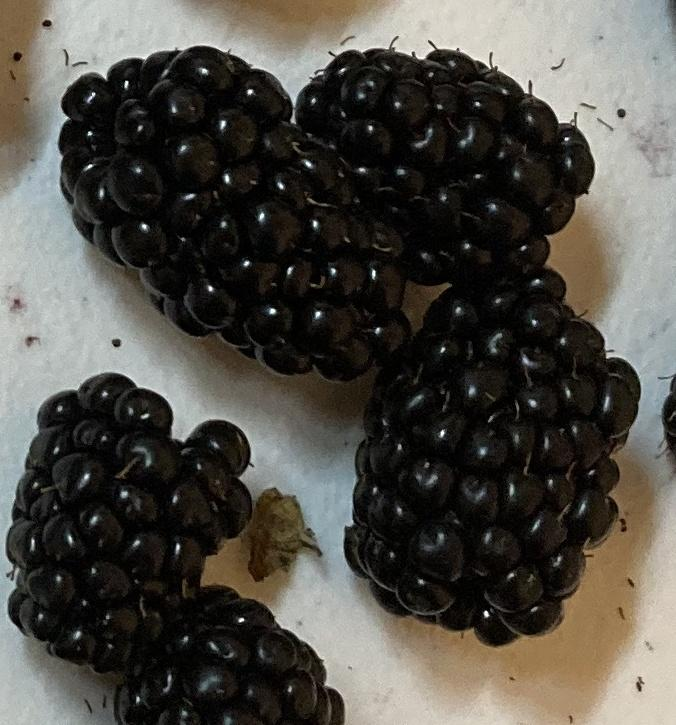berry: (58, 45, 416, 381), (344, 268, 640, 645), (6, 374, 251, 673), (296, 45, 593, 283), (116, 585, 344, 724)
